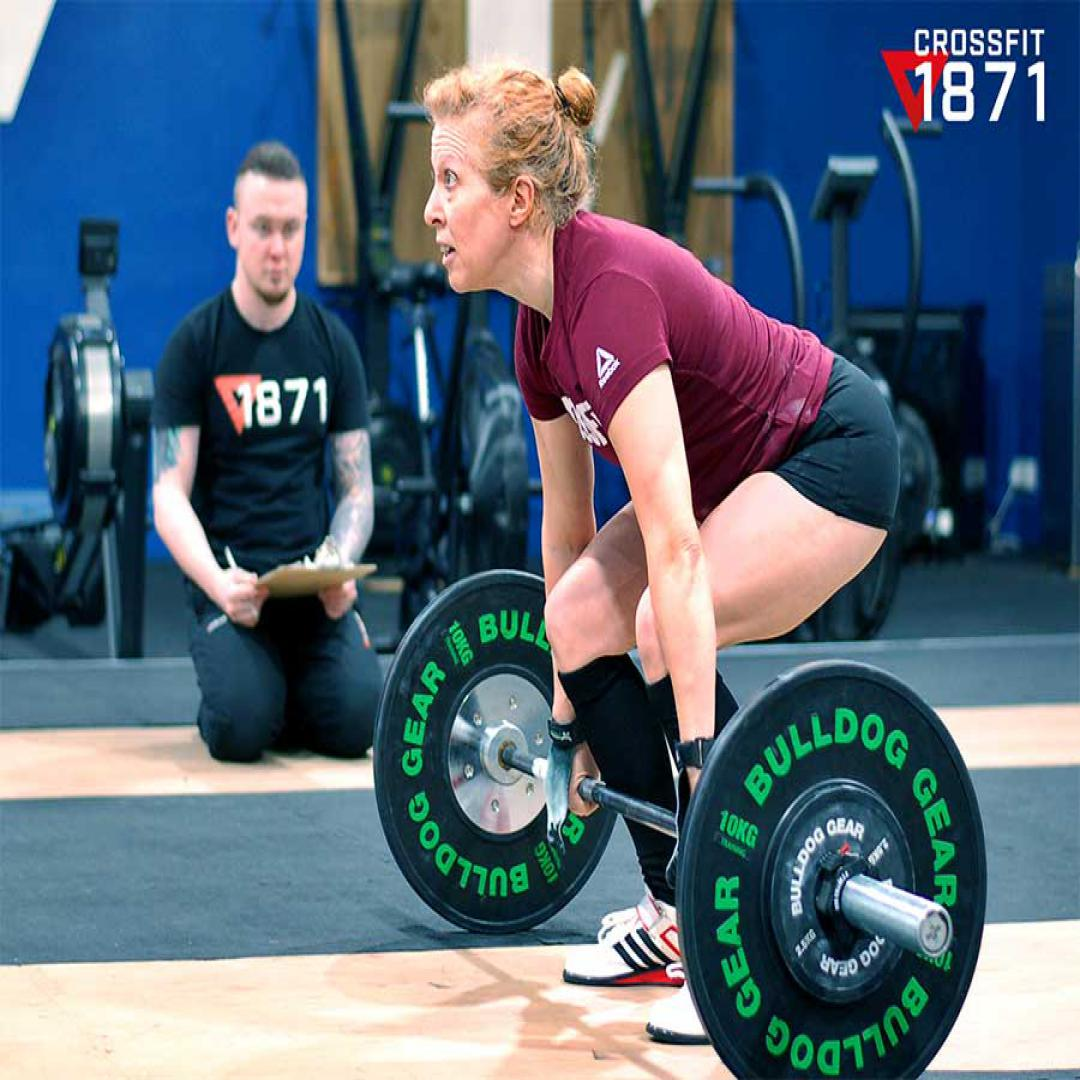Bar: (916, 902, 955, 961)
Barbell: (681, 662, 988, 1078)
